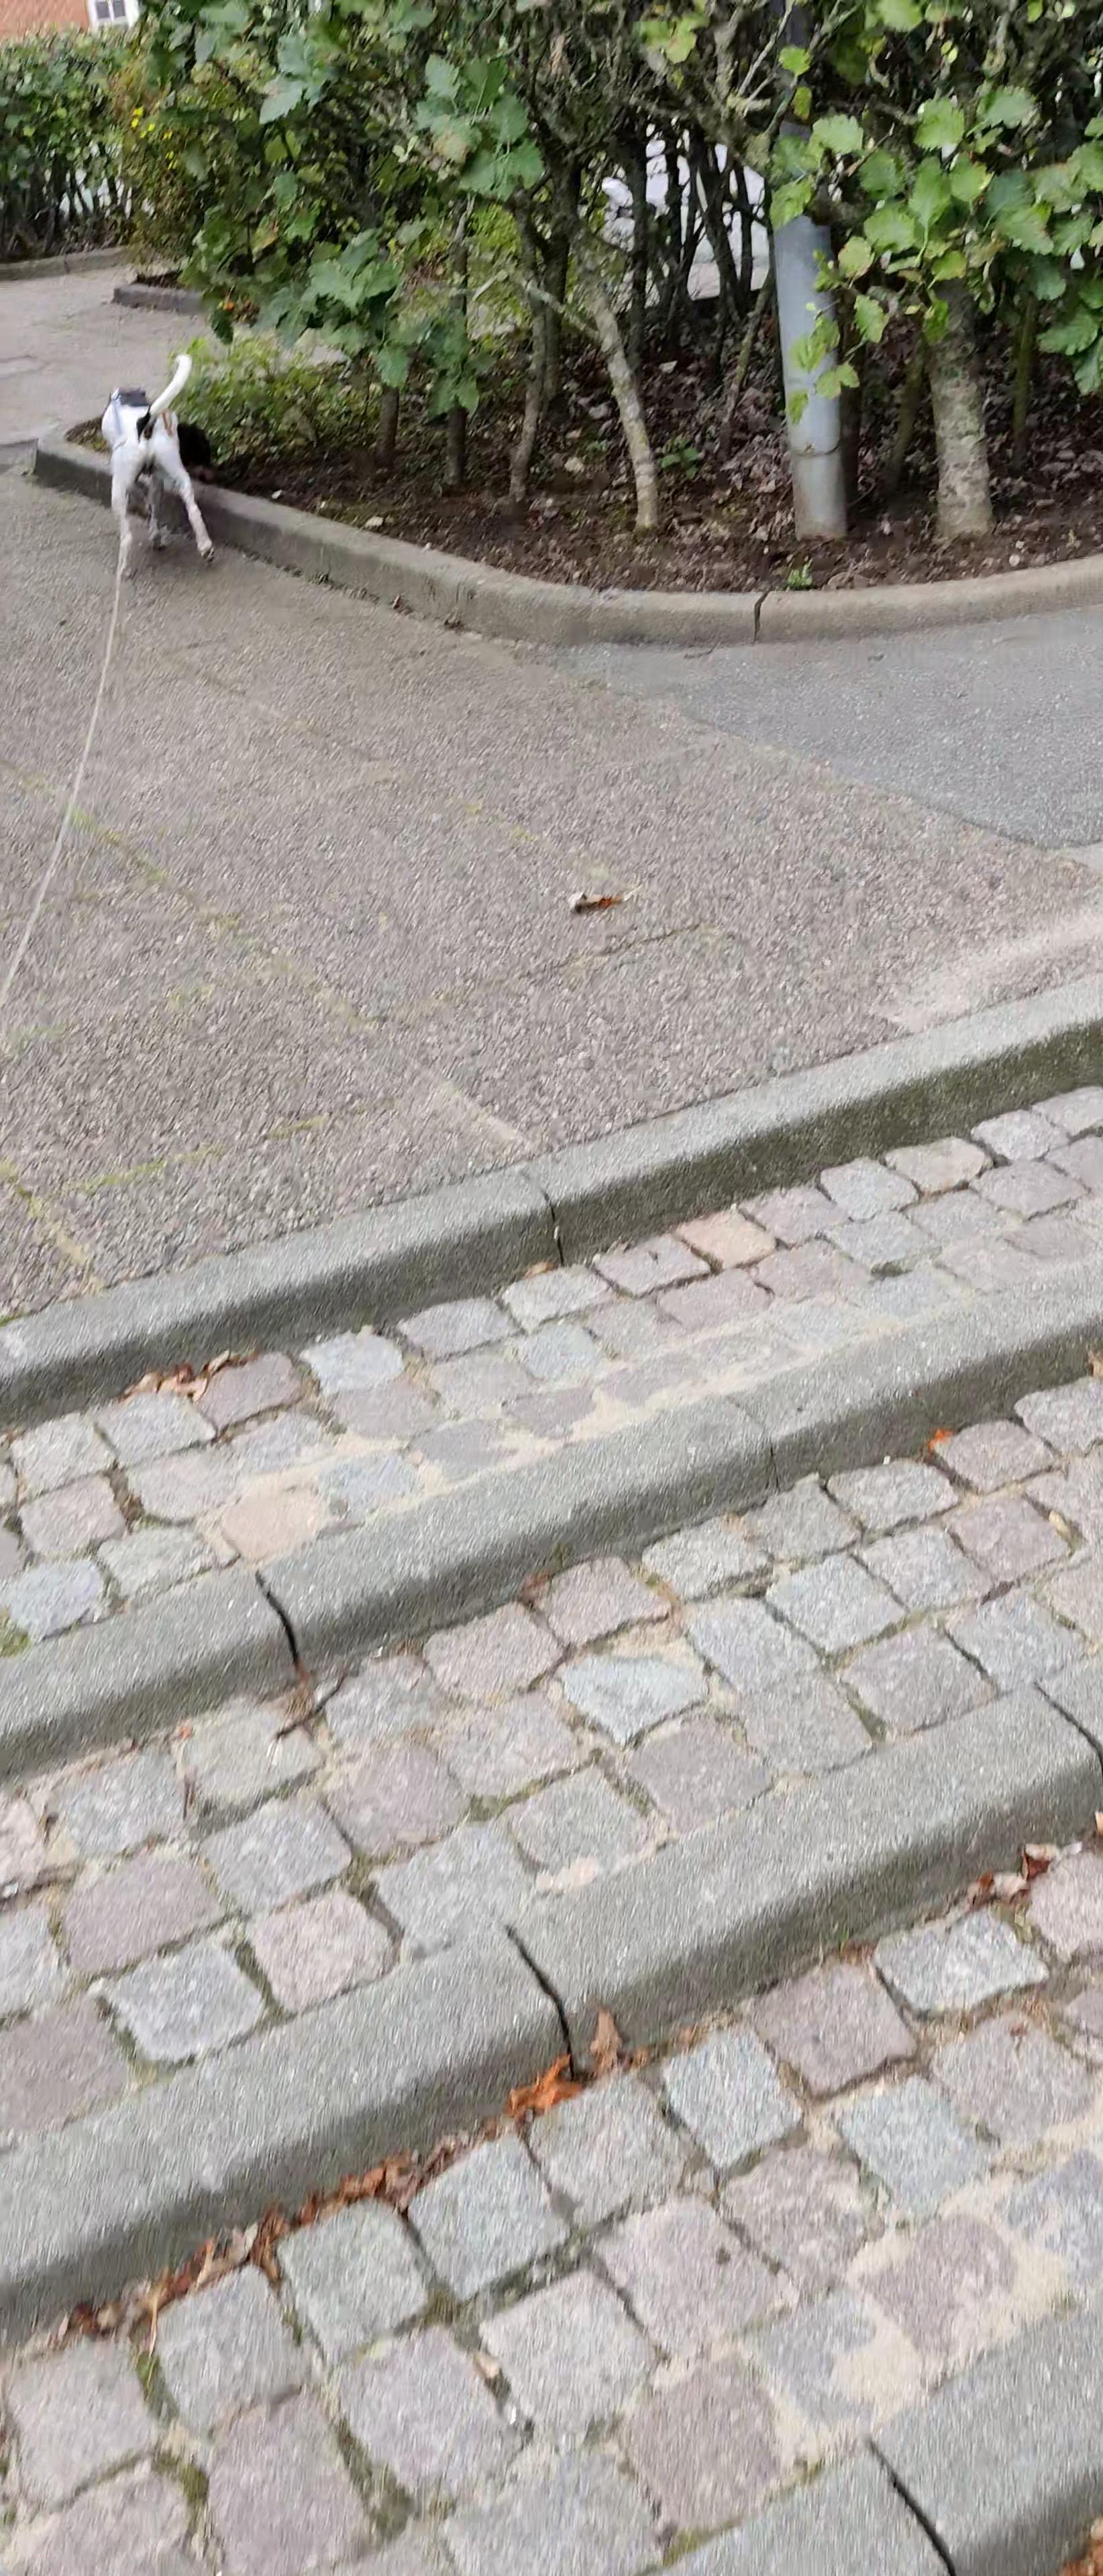Dog: (77, 343, 245, 591)
